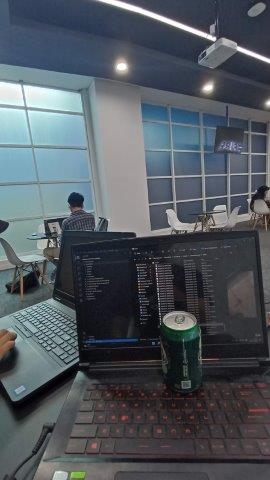kaleng: (160, 310, 201, 392)
